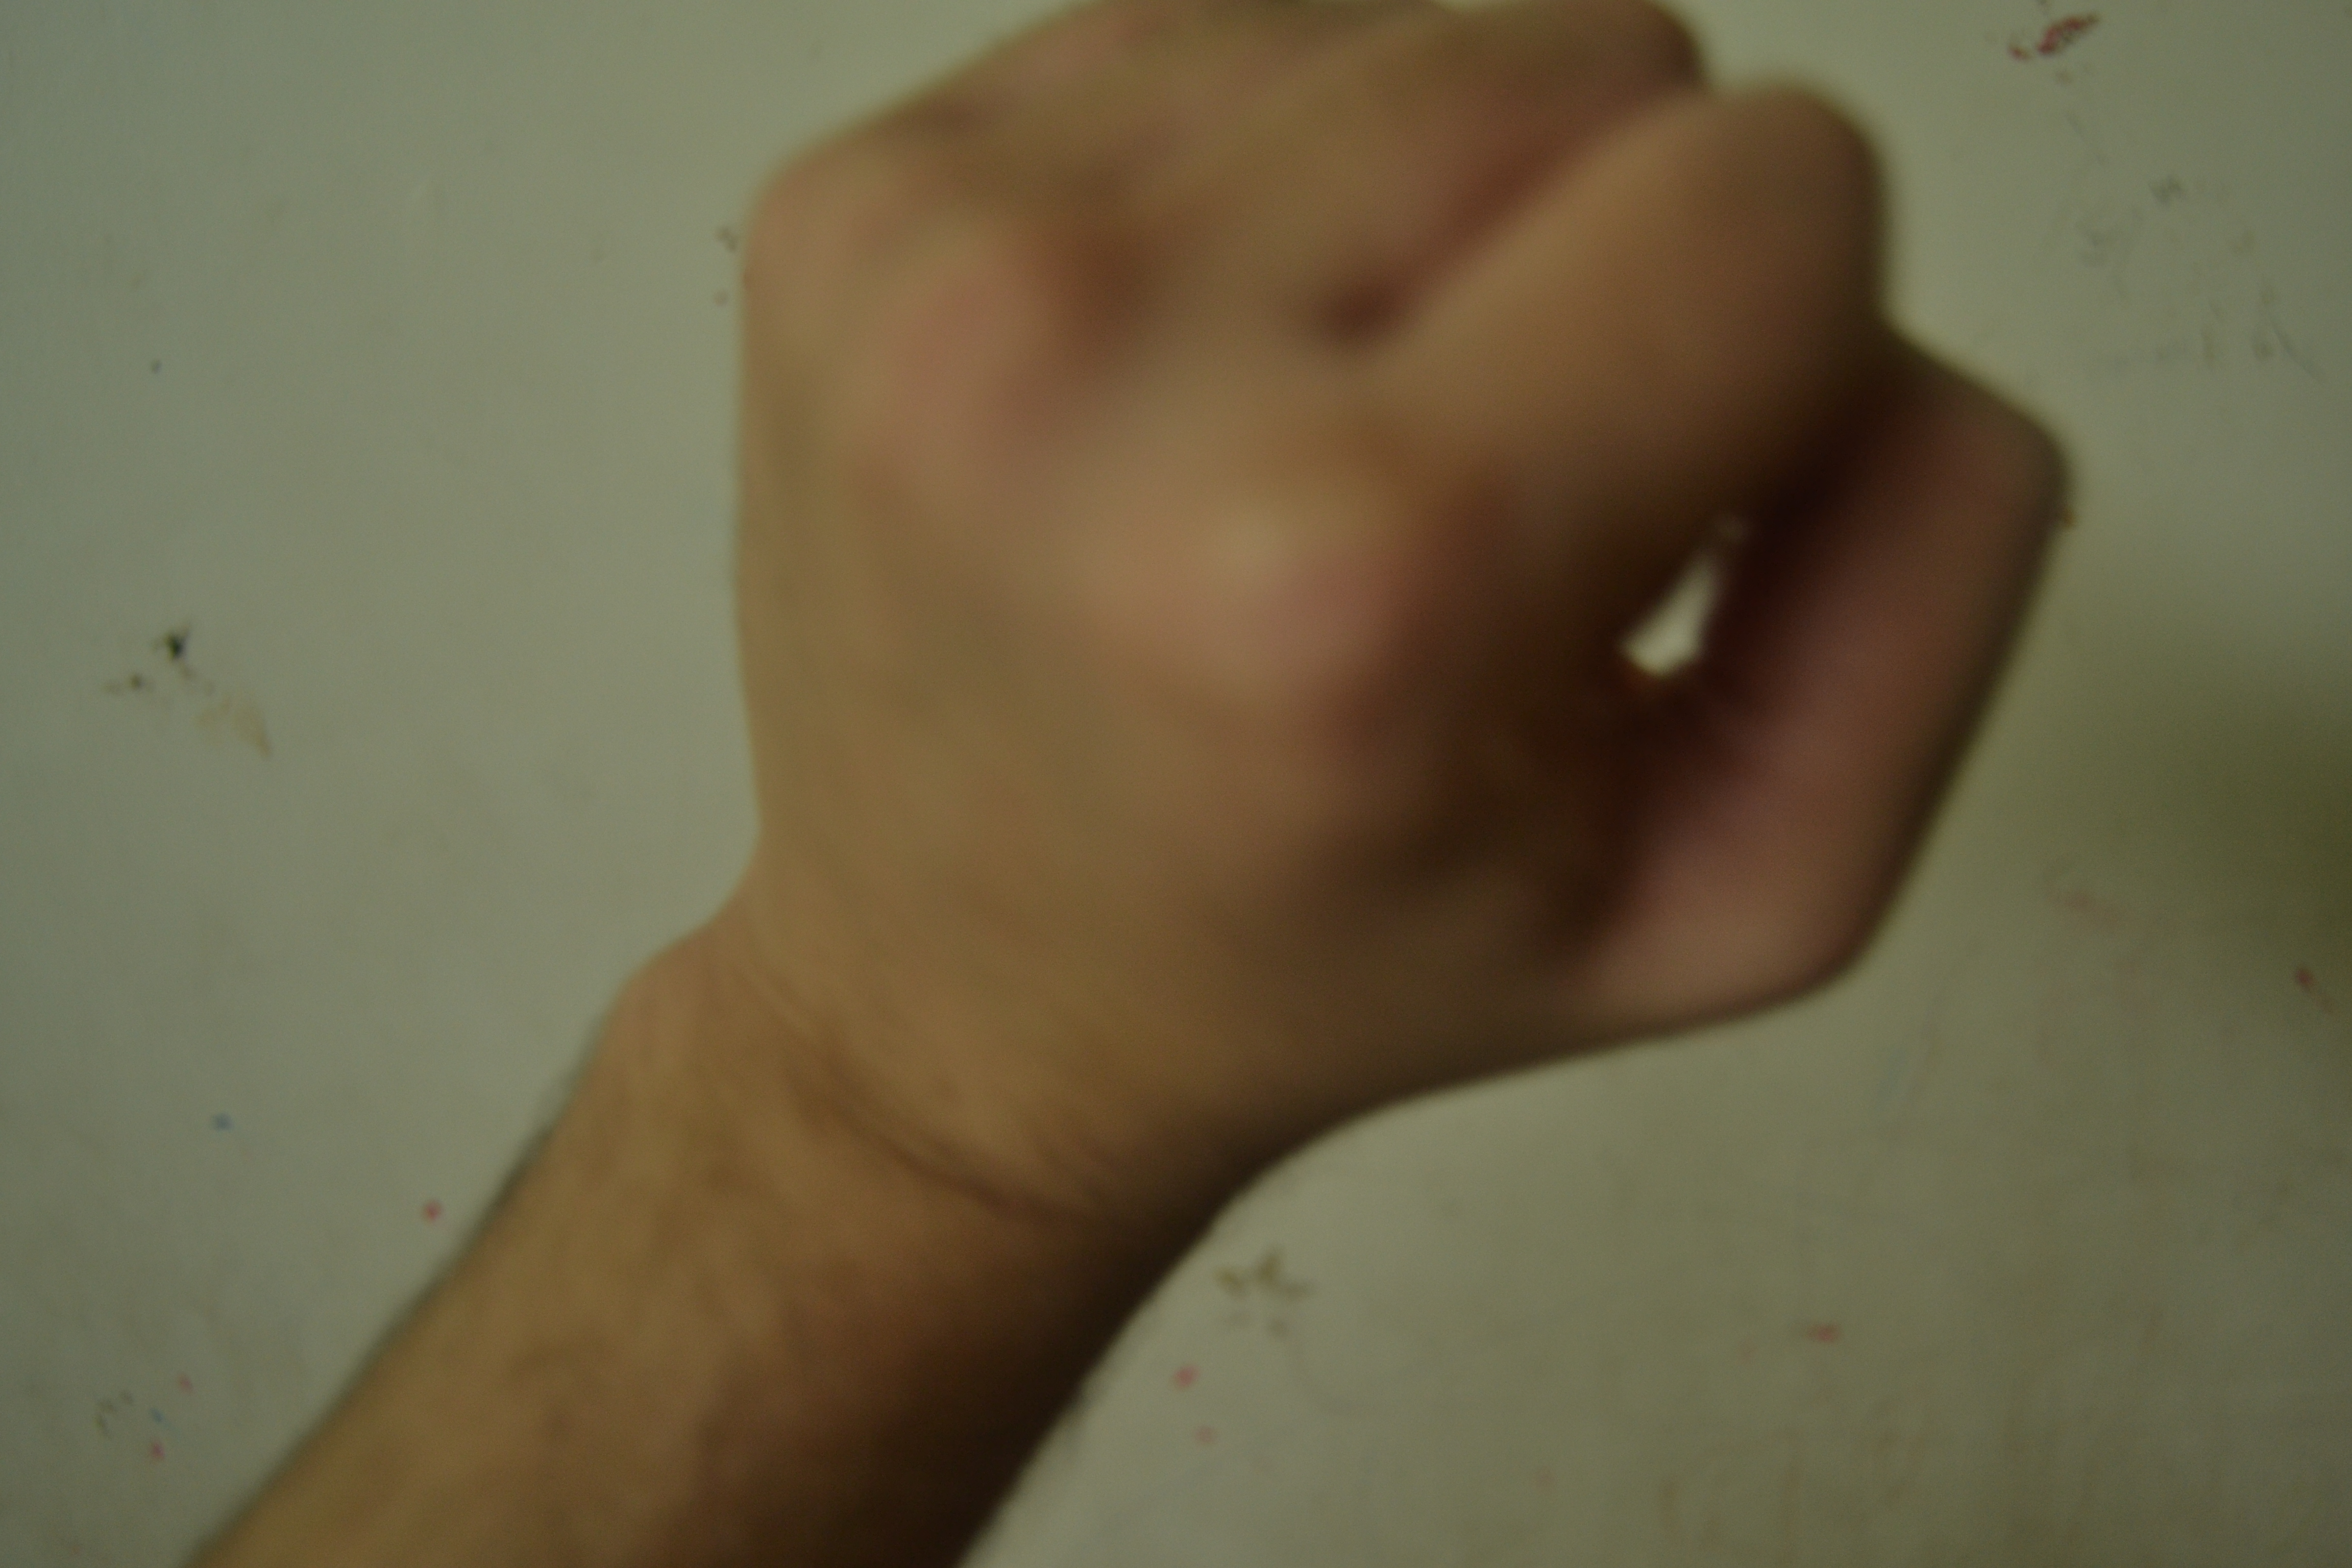click: (672, 3, 2009, 1367)
